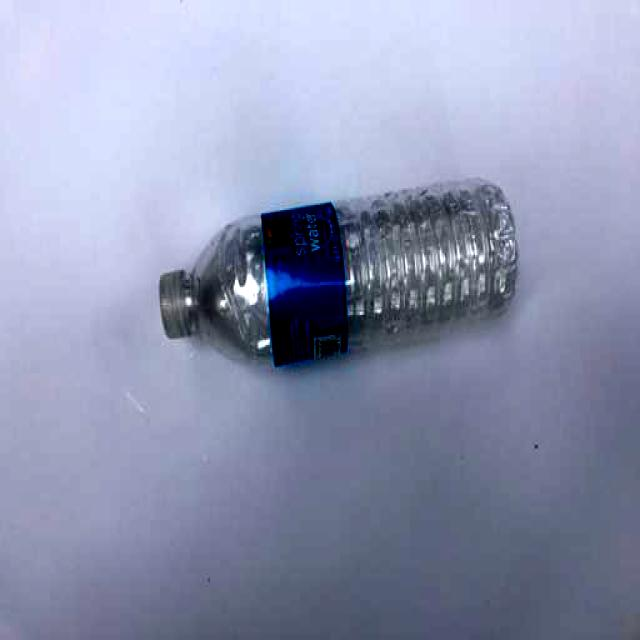Plastic: (156, 171, 521, 370)
